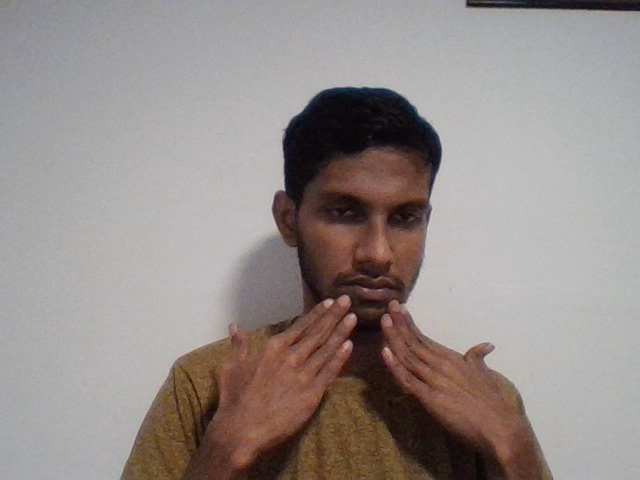thanks: (189, 292, 557, 462)
